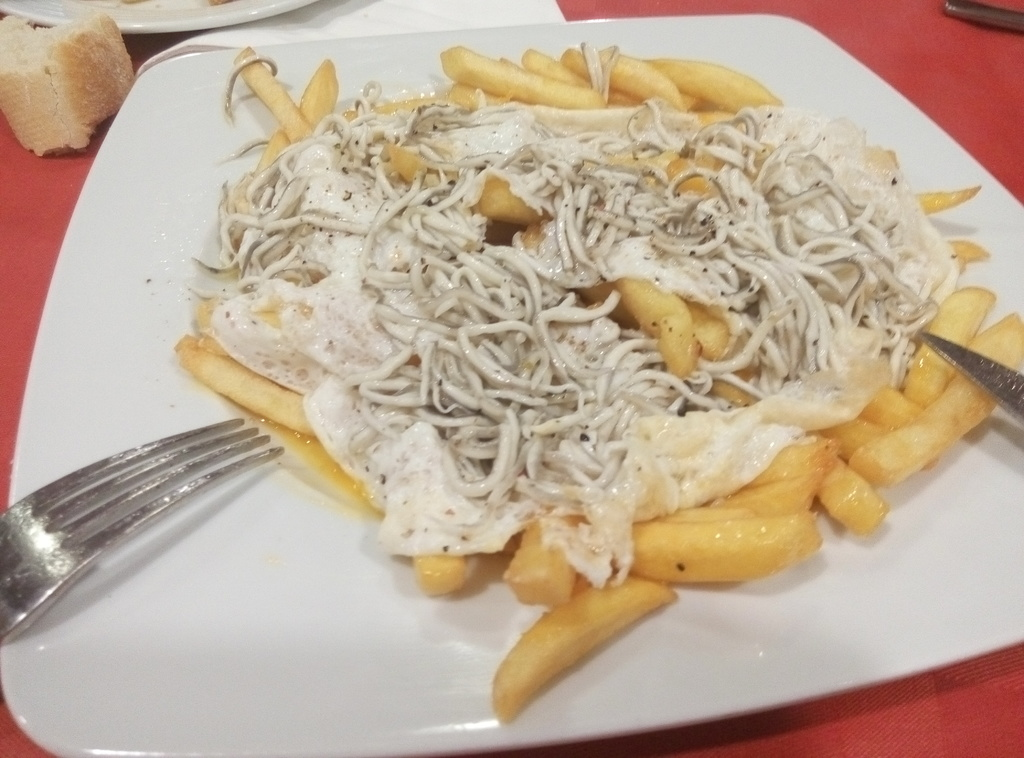pasta: (194, 42, 959, 508), (188, 76, 938, 501)
